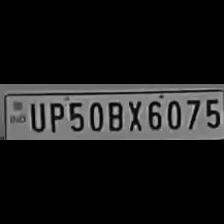0: (163, 96, 181, 132), (86, 100, 104, 132)
5: (202, 96, 222, 130), (65, 98, 84, 132)
6: (144, 97, 162, 131)
7: (182, 96, 200, 132)
B: (105, 98, 125, 132)
P: (46, 99, 64, 134)
U: (27, 100, 46, 132)
X: (124, 98, 144, 132)
